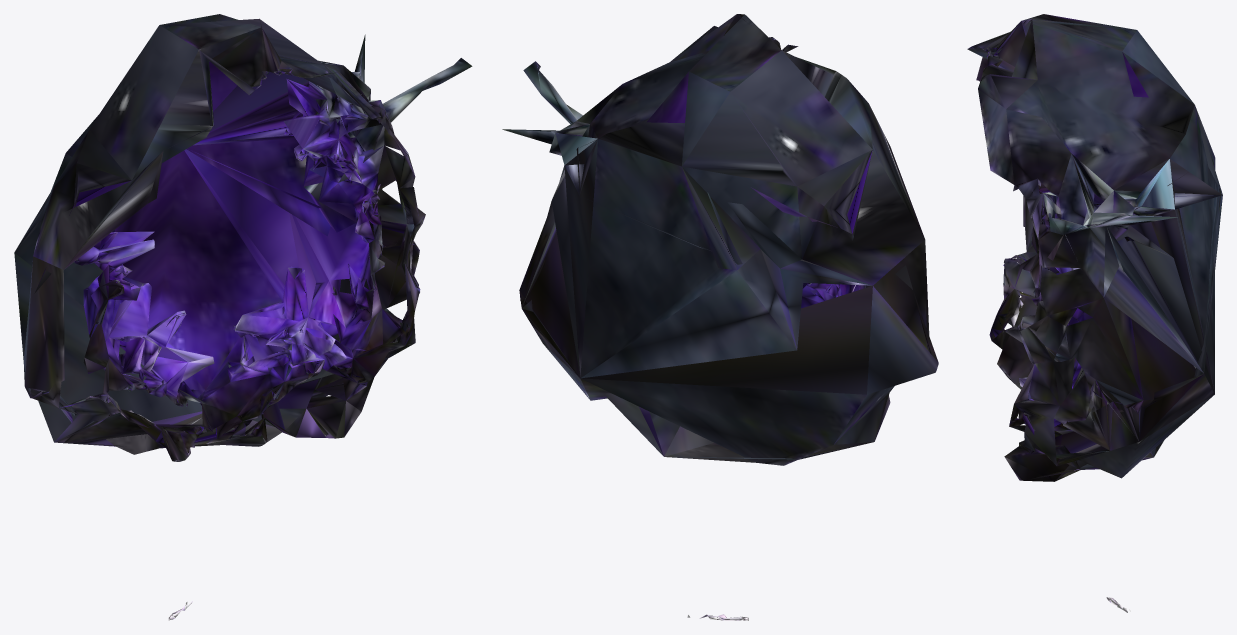
The model's file is geodo_cristal_mana_fenda.glb.
The picture shows the model from 3 angles, left to right: view 1: azimuth 30°, elevation 25°; view 2: azimuth 150°, elevation 25°; view 3: azimuth 270°, elevation 25°; orthographic projection. The views are drawn at different scales.
Parts seen in each view (by area): view 1: geometry_0; view 2: geometry_0; view 3: geometry_0.
Part boxes in pixels (<box>): geometry_0: <box>14,14,472,620</box>; geometry_0: <box>502,14,938,620</box>; geometry_0: <box>967,14,1222,612</box>.
Bounding box in the file's own units: 0.7606 × 1 × 0.3829.
1 material, 1 textured.
